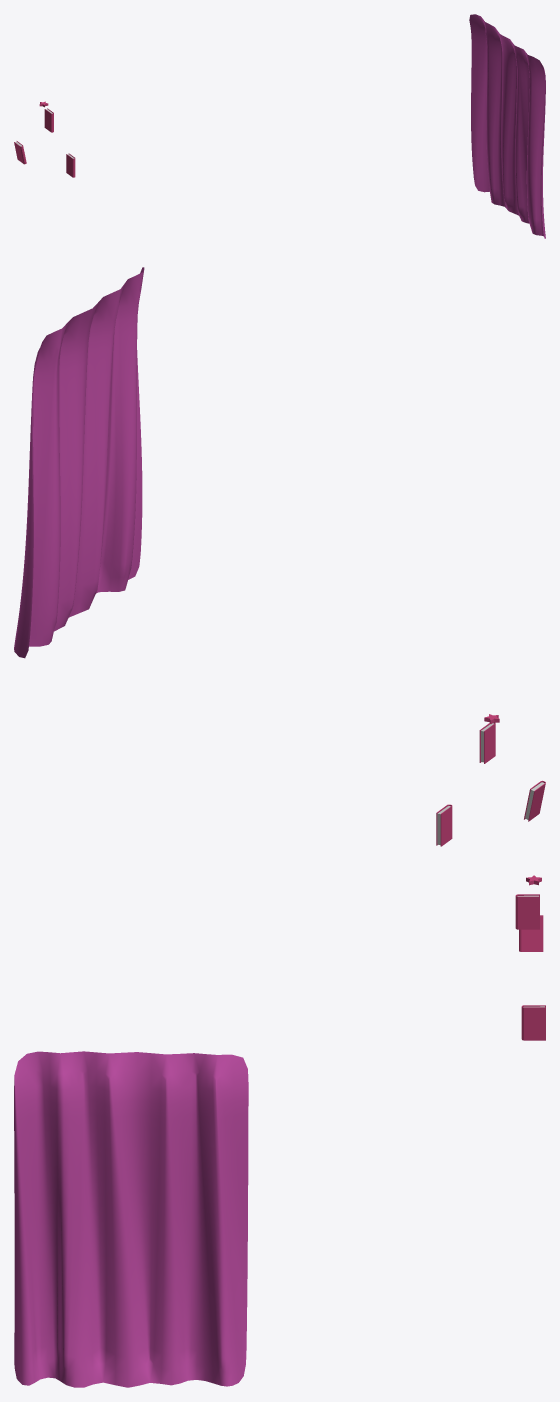
Rendered from room_escape_new_pink.obj.
3 renders of one model, top to bottom at view 1: azimuth 30°, elevation 25°; view 2: azimuth 150°, elevation 25°; view 3: azimuth 270°, elevation 25°, orthographic. The views are drawn at different scales.
Parts seen in each view (by area): view 1: Vert_door_cloth; view 2: Vert_door_cloth; view 3: Vert_door_cloth, Cube.026_pink_book.002, Cube.015_pink_book.002, Cube.029_pink_book.002.
Boxes of the visible parts, bbox=[...] form: Vert_door_cloth: bbox=[469, 14, 545, 238]; Vert_door_cloth: bbox=[14, 267, 144, 658]; Vert_door_cloth: bbox=[14, 1051, 248, 1387]; Cube.026_pink_book.002: bbox=[515, 894, 539, 929]; Cube.015_pink_book.002: bbox=[521, 1005, 545, 1040]; Cube.029_pink_book.002: bbox=[519, 915, 543, 951].
Size of the model in its own units: 7.5 by 3.38 by 5.06.
